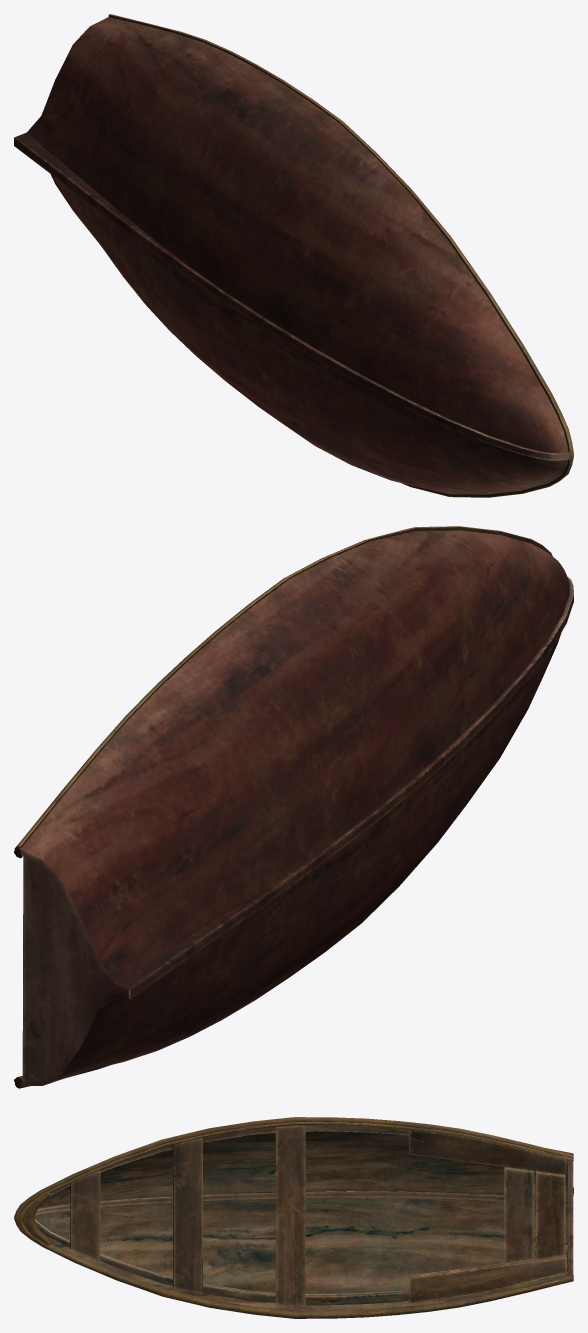
File: cP_Boat01.dae
3 renders of one model, top to bottom at view 1: azimuth 30°, elevation 25°; view 2: azimuth 150°, elevation 25°; view 3: azimuth 270°, elevation 25°, orthographic. The views are drawn at different scales.
Visible parts, largest first — view 1: cP_Boat01.001; view 2: cP_Boat01.001; view 3: cP_Boat01.001.
Part boxes in pixels (bbox=[...]): cP_Boat01.001: bbox=[14, 14, 573, 497]; cP_Boat01.001: bbox=[14, 526, 573, 1088]; cP_Boat01.001: bbox=[14, 1117, 573, 1318].
Bounding box in the file's own units: 0.7119 × 5.45 × 2.17.
